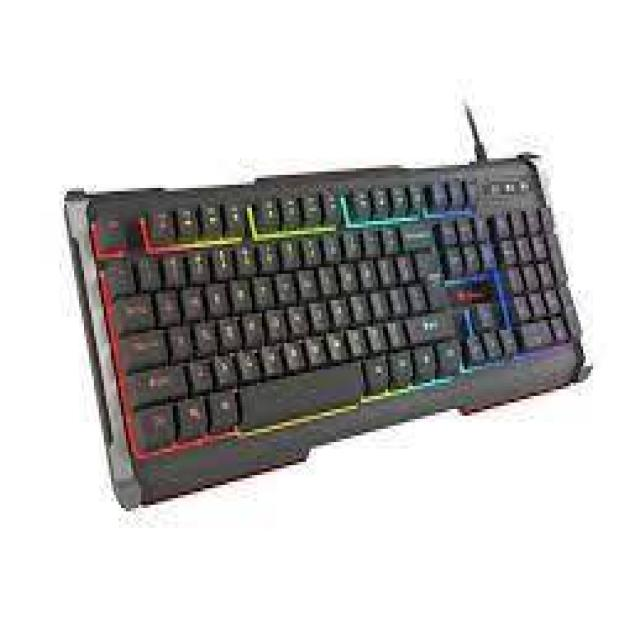keyboard: (77, 159, 581, 477)
